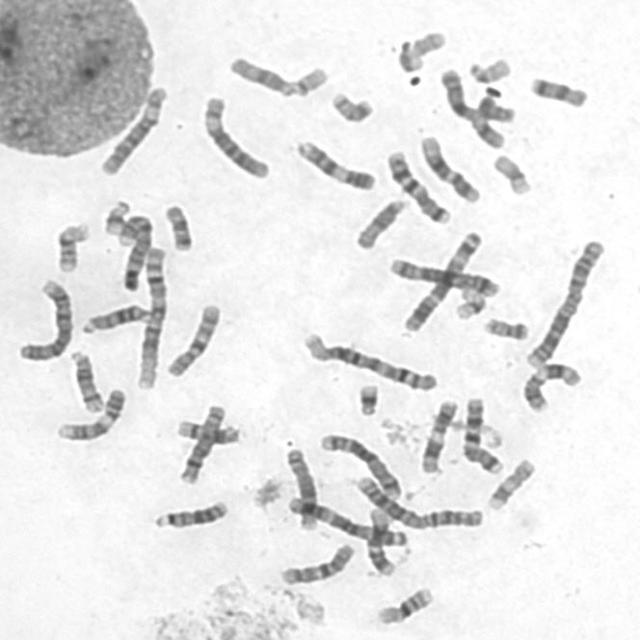A1: (296, 326, 439, 393), (129, 241, 170, 392)
A2: (520, 234, 608, 370), (349, 469, 488, 531)
A3: (397, 225, 486, 334), (280, 491, 410, 548)
B4: (13, 274, 75, 362), (114, 209, 155, 293)
B5: (314, 428, 405, 501), (383, 252, 502, 298)
C10: (160, 297, 223, 379), (274, 537, 358, 587)
C11: (516, 356, 584, 413), (414, 394, 461, 475)
C12: (413, 130, 483, 204), (361, 504, 398, 577)
C6: (94, 80, 170, 177), (195, 89, 272, 180)
C7: (380, 145, 453, 226), (457, 392, 506, 476)
C8: (172, 398, 228, 486), (279, 442, 321, 532)
C9: (289, 135, 378, 192), (50, 382, 127, 442)
D13: (76, 298, 152, 336), (148, 495, 230, 530)
D14: (65, 344, 106, 414), (171, 414, 242, 446)
D15: (223, 51, 324, 98), (349, 192, 410, 251)
E16: (370, 580, 436, 626), (49, 217, 93, 273)
E17: (481, 453, 537, 513), (392, 26, 448, 72)
E18: (524, 71, 590, 109), (158, 198, 196, 254)
F19: (487, 149, 534, 197), (449, 285, 489, 321)
F20: (325, 86, 375, 124), (478, 312, 531, 342)
G21: (97, 194, 133, 237), (351, 377, 382, 417)
G22: (282, 61, 330, 98), (462, 52, 514, 84)
X: (434, 61, 508, 151)
Y: (473, 91, 518, 124)
